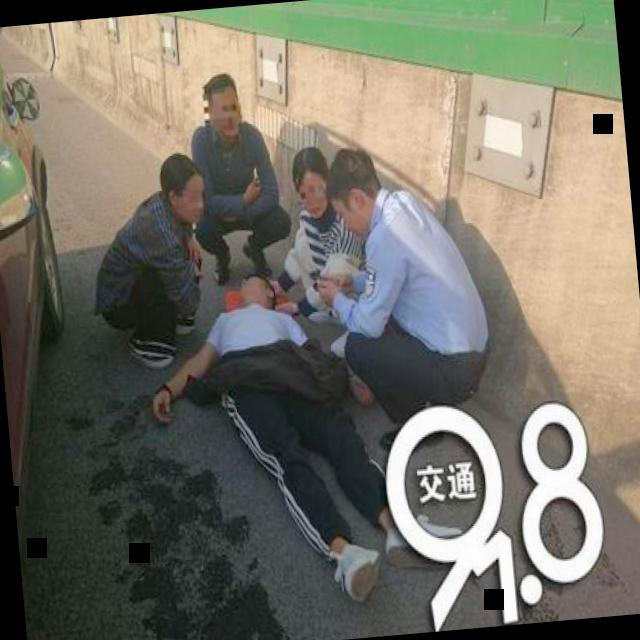Fall-Detected: (138, 230, 457, 622)
